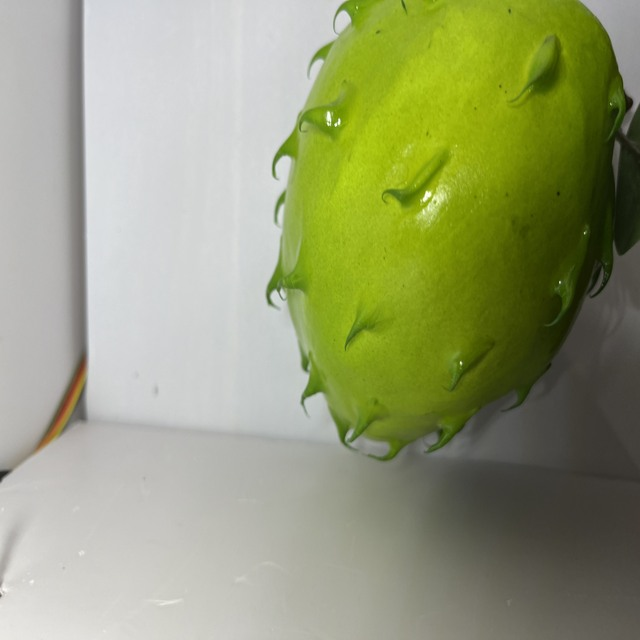Man cau: (249, 0, 640, 474)
